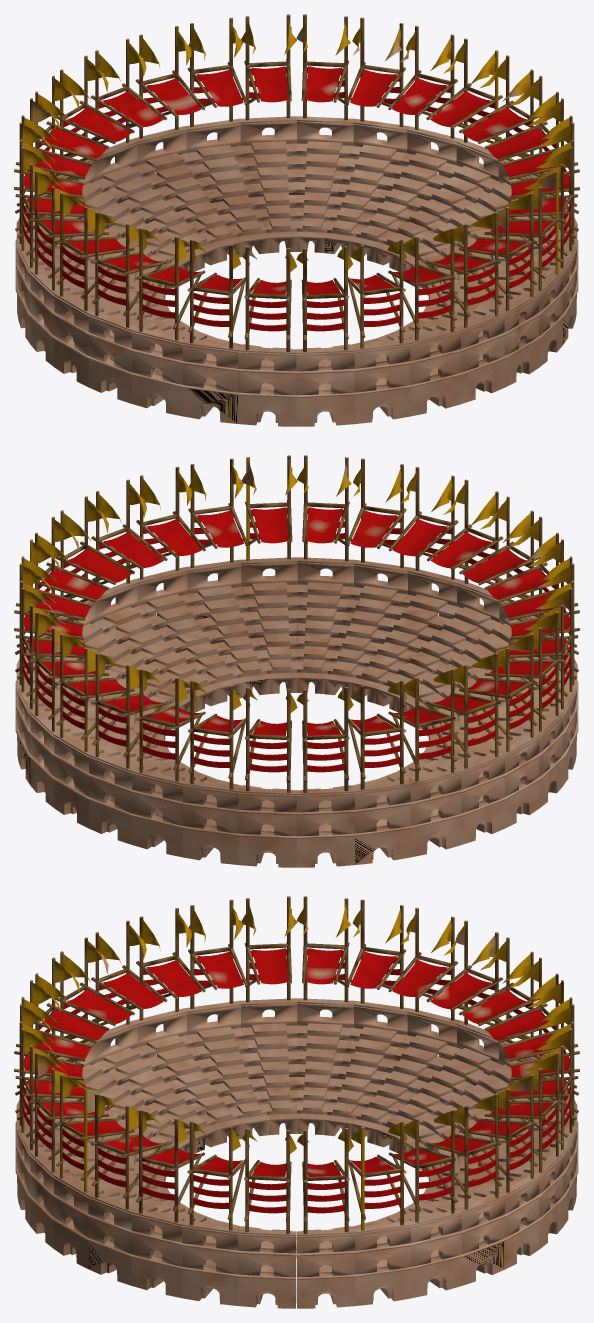
3 views of the same model, one above another, from view 1: azimuth 30°, elevation 25°; view 2: azimuth 150°, elevation 25°; view 3: azimuth 270°, elevation 25° (orthographic).
Visible parts, largest first — view 1: pCube44_1; view 2: pCube44_1; view 3: pCube44_1.
Boxes of the visible parts, x1,y1,x2,y2 form: pCube44_1: (14, 14, 579, 426); pCube44_1: (14, 455, 579, 867); pCube44_1: (14, 896, 579, 1308).
Size of the model in its own units: 61.5 by 21.15 by 61.36.
Materials: 1 (1 with a texture image).
